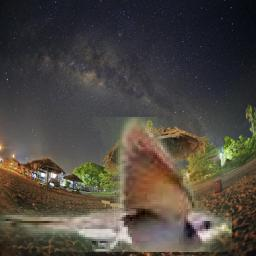Cuckoo: (0, 118, 232, 253)
